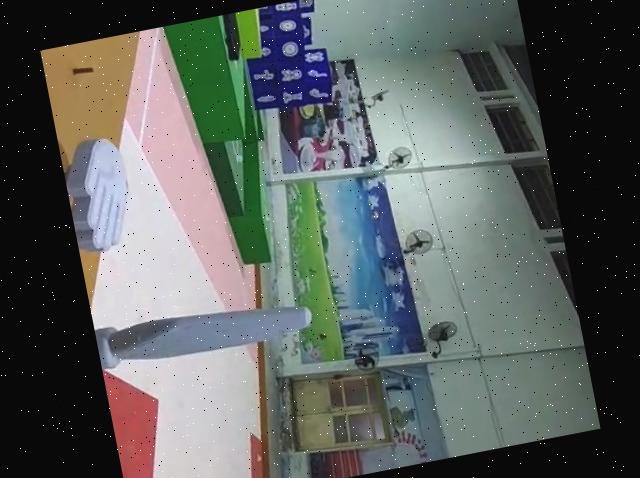Hand: (57, 128, 144, 252)
Sph: (93, 284, 319, 376)
